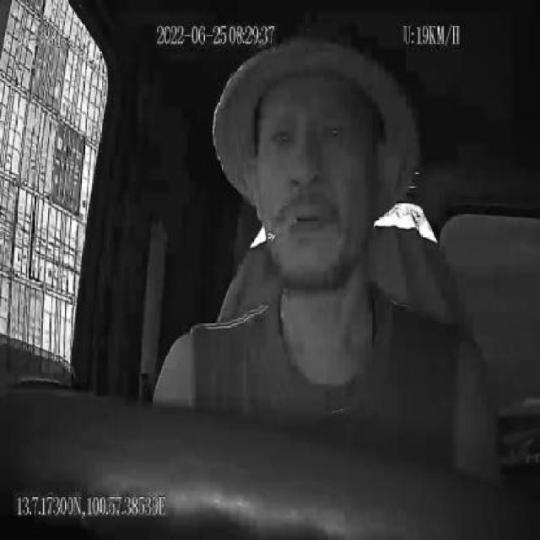smoking: (267, 212, 297, 244)
